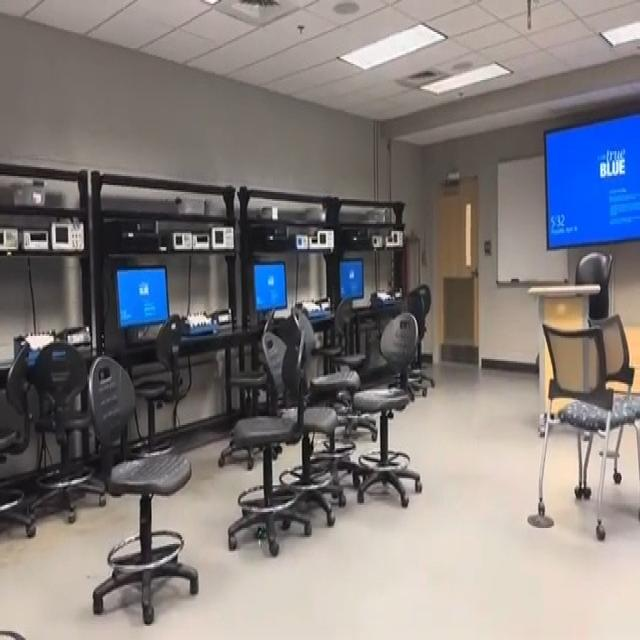drone: (247, 516, 276, 551)
